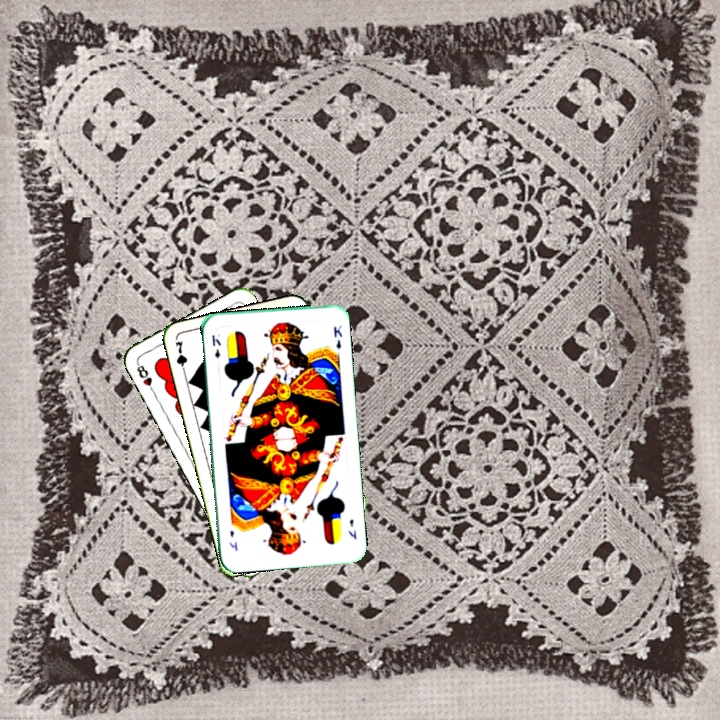EK: (208, 331, 223, 361), (344, 515, 359, 542)
G7: (171, 337, 190, 377)
H8: (132, 359, 158, 396)
